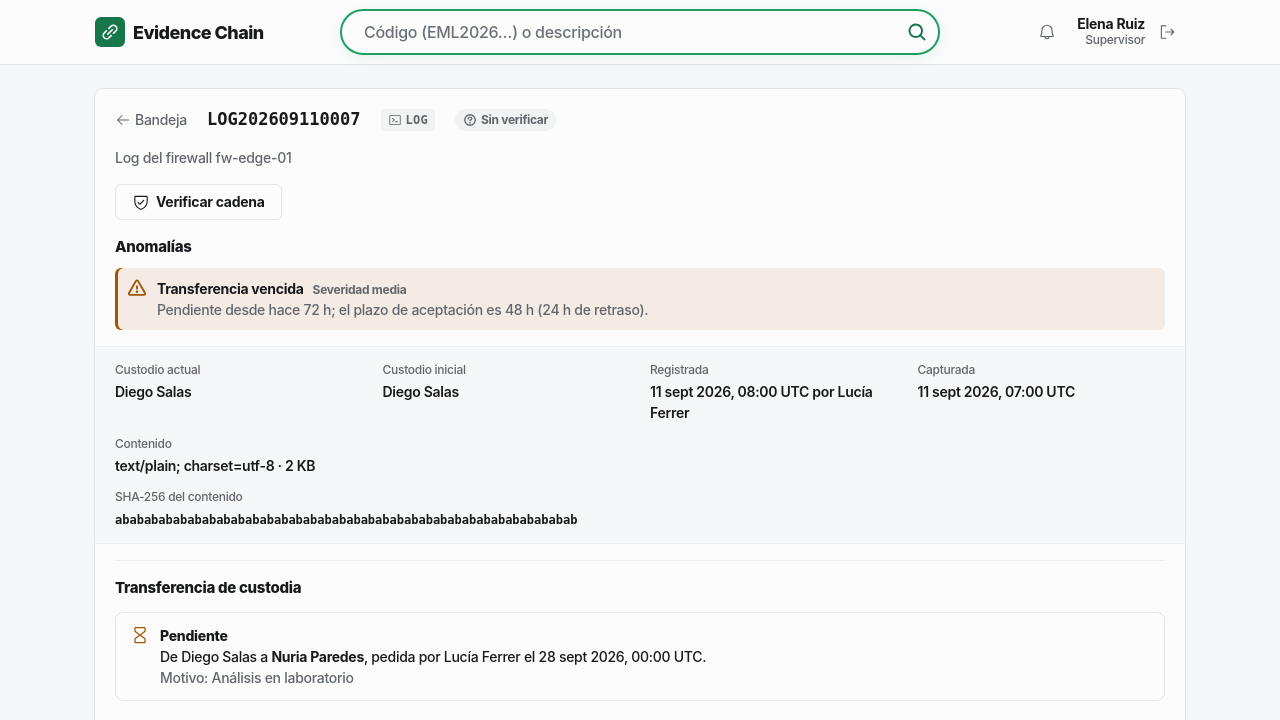
Scenario: EvidencePage › shows the first invalid event inline and marks it in the timeline
Click the button "Verificar cadena": (198, 202) [115,184,282,220]
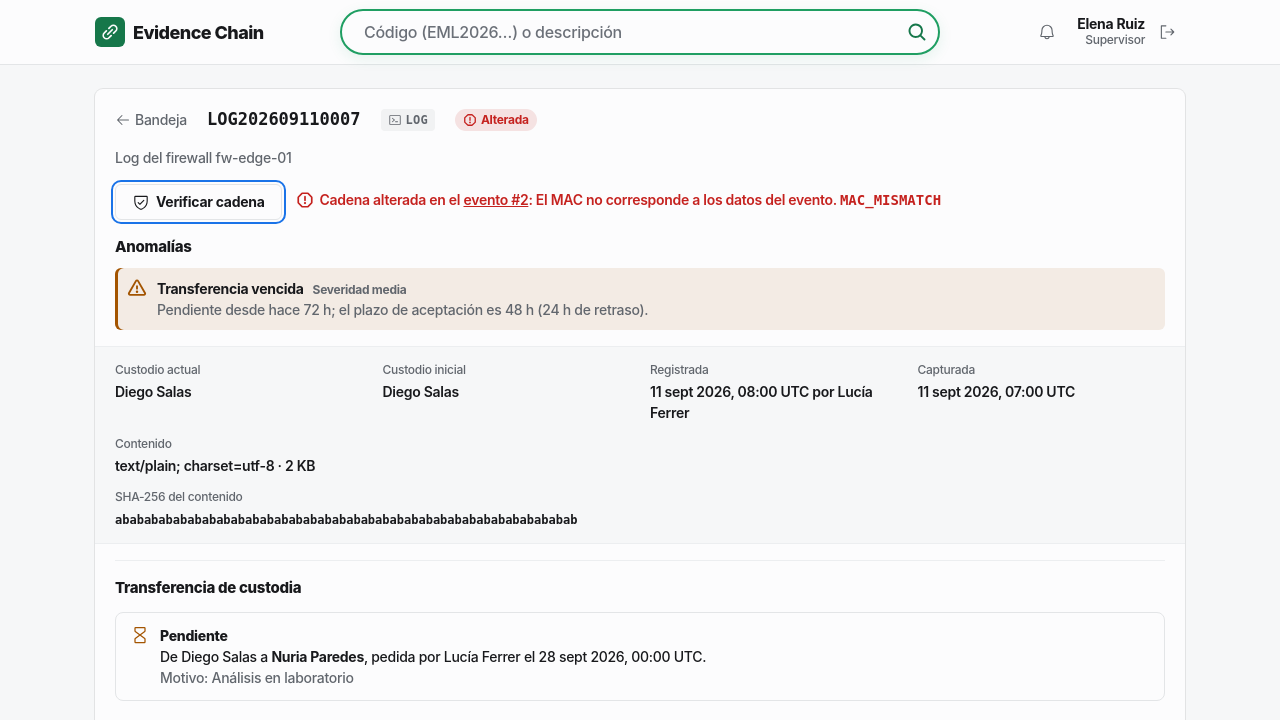
Expected: the text "Alterada" is shown, [455,109,537,131]
